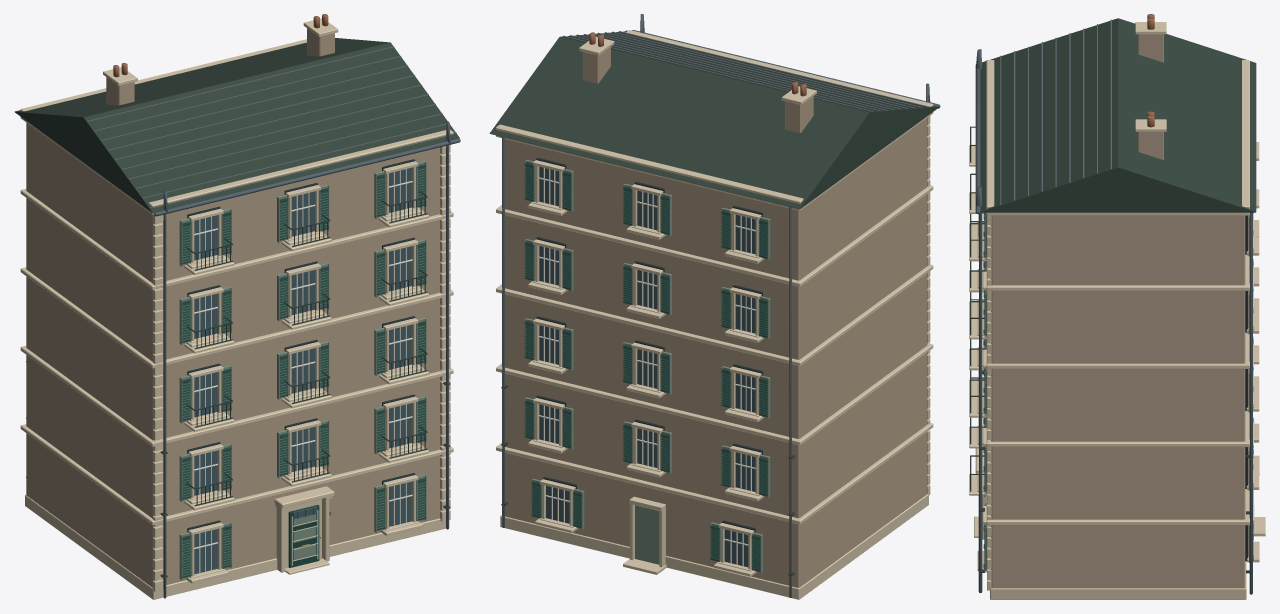
File: apartment_four.glb
3 views of the same model, side by side, from view 1: azimuth 30°, elevation 25°; view 2: azimuth 150°, elevation 25°; view 3: azimuth 270°, elevation 25° (orthographic).
Visible parts, largest first — view 1: Building_masonry, Pitched_slate_roof, Stone_plinth, Continuous_cornice.005, Continuous_cornice.001, Continuous_cornice, Continuous_cornice.003, Continuous_cornice.002, Rainwater_downpipe, Zinc_gutter, Rainwater_downpipe.001, Entry_door (+19 smaller); view 2: Building_masonry, Pitched_slate_roof, Stone_plinth, Continuous_cornice.005, Continuous_cornice.003, Continuous_cornice.002, Continuous_cornice.001, Continuous_cornice, Garden_entry_door, Rear_downpipe, Rear_downpipe.001, Continuous_cornice.004 (+13 smaller); view 3: Building_masonry, Pitched_slate_roof, Stone_plinth, Continuous_cornice.005, Continuous_cornice, Continuous_cornice.002, Continuous_cornice.003, Continuous_cornice.001, Rainwater_downpipe.001, Rear_downpipe.001, Continuous_cornice.004, Zinc_gutter (+2 smaller).
Boxes of the visible parts, x1=… form: Building_masonry: x1=26, y1=122, x2=441, y2=587; Pitched_slate_roof: x1=14, y1=38, x2=459, y2=213; Stone_plinth: x1=25, y1=495, x2=449, y2=599; Continuous_cornice.005: x1=20, y1=39, x2=453, y2=207; Continuous_cornice.001: x1=20, y1=345, x2=453, y2=446; Continuous_cornice: x1=20, y1=424, x2=453, y2=525; Continuous_cornice.003: x1=20, y1=189, x2=453, y2=289; Continuous_cornice.002: x1=20, y1=267, x2=453, y2=368; Rainwater_downpipe: x1=163, y1=190, x2=167, y2=598; Zinc_gutter: x1=154, y1=138, x2=460, y2=216; Rainwater_downpipe.001: x1=446, y1=121, x2=450, y2=529; Entry_door: x1=288, y1=505, x2=319, y2=567; Building_masonry: x1=502, y1=118, x2=927, y2=587; Pitched_slate_roof: x1=489, y1=31, x2=939, y2=209; Stone_plinth: x1=500, y1=494, x2=928, y2=599; Continuous_cornice.005: x1=496, y1=30, x2=933, y2=203; Continuous_cornice.003: x1=496, y1=185, x2=933, y2=286; Continuous_cornice.002: x1=496, y1=264, x2=933, y2=366; Continuous_cornice.001: x1=496, y1=343, x2=933, y2=445; Continuous_cornice: x1=496, y1=423, x2=933, y2=524; Garden_entry_door: x1=635, y1=505, x2=659, y2=564; Rear_downpipe: x1=789, y1=207, x2=791, y2=597; Rear_downpipe.001: x1=502, y1=137, x2=504, y2=527; Continuous_cornice.004: x1=496, y1=112, x2=933, y2=210; Building_masonry: x1=991, y1=215, x2=1245, y2=588; Pitched_slate_roof: x1=980, y1=18, x2=1256, y2=212; Stone_plinth: x1=990, y1=561, x2=1246, y2=599; Continuous_cornice.005: x1=986, y1=60, x2=1249, y2=208; Continuous_cornice: x1=986, y1=489, x2=1249, y2=525; Continuous_cornice.002: x1=986, y1=332, x2=1249, y2=368; Continuous_cornice.003: x1=986, y1=254, x2=1249, y2=290; Continuous_cornice.001: x1=986, y1=411, x2=1249, y2=446; Rainwater_downpipe.001: x1=975, y1=186, x2=982, y2=592; Rear_downpipe.001: x1=1249, y1=212, x2=1252, y2=594; Continuous_cornice.004: x1=986, y1=212, x2=1249, y2=215; Zinc_gutter: x1=975, y1=65, x2=980, y2=214.
Size of the model in its own units: 12.5 by 18.05 by 10.49.
